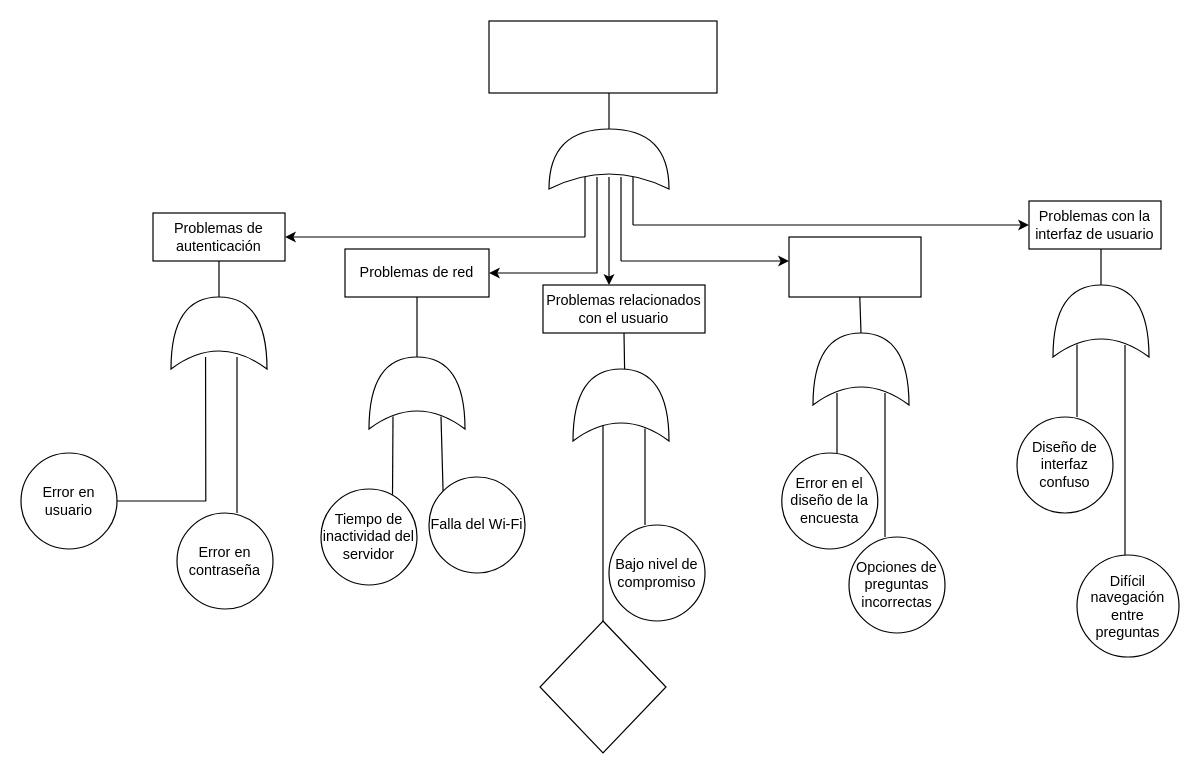
The diagram is 1200 pixels wide and 774 high, and some of its shapes have lost their labels. Here are the shapes that lost their labels. From the top down, the centre of each, then its label:
At (602,56): "Baja participación en la encuesta".
At (854,266): "Problemas con la creación de encuestas".
At (602,686): "Falta de conocimiento sobre las encuestas".
